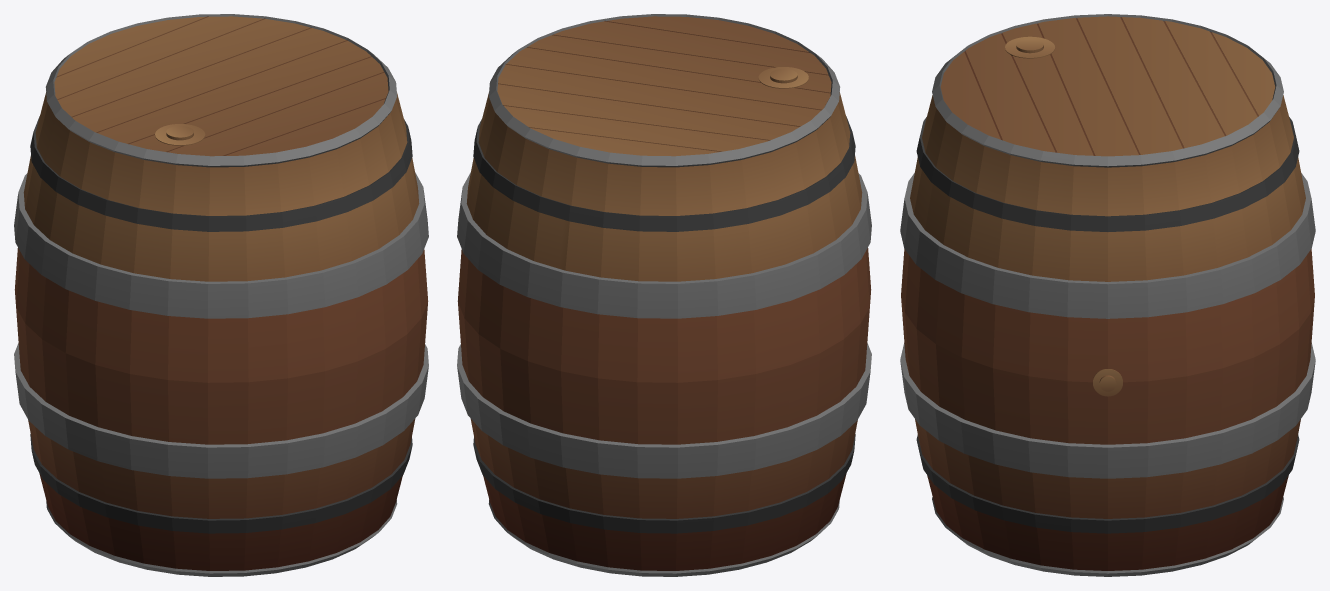
Rendered from Small Med Barrel Closed #1.fbx.
3 renders of one model, left to right at view 1: azimuth 30°, elevation 25°; view 2: azimuth 150°, elevation 25°; view 3: azimuth 270°, elevation 25°, orthographic.
Parts seen in each view (by area): view 1: Small Med Barrel Closed #1; view 2: Small Med Barrel Closed #1; view 3: Small Med Barrel Closed #1.
Part boxes in pixels (x1,y1,x2,y2): Small Med Barrel Closed #1: (14,14,428,576); Small Med Barrel Closed #1: (457,14,871,576); Small Med Barrel Closed #1: (900,14,1315,576).
Bounding box in the file's own units: 272 × 243 × 244.
Materials: 1 (1 with a texture image).
